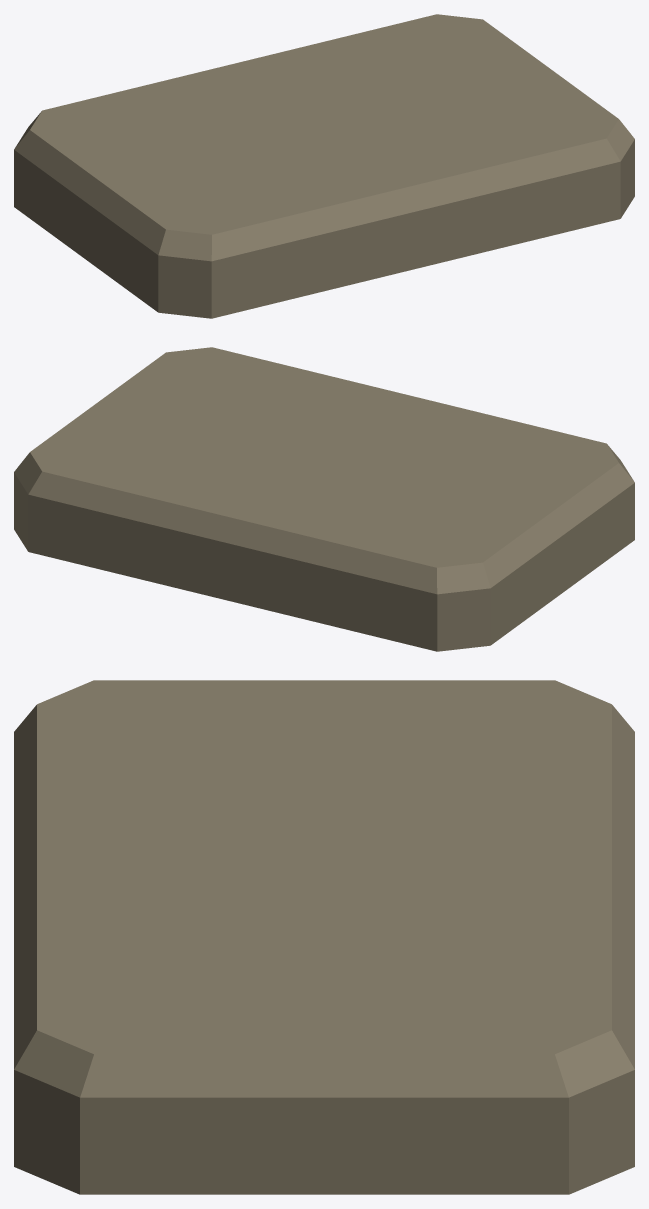
Rendered from doorstone.glb.
3 views of the same model, one above another, from view 1: azimuth 30°, elevation 25°; view 2: azimuth 150°, elevation 25°; view 3: azimuth 270°, elevation 25° (orthographic). The views are drawn at different scales.
Parts seen in each view (by area): view 1: Doorstone; view 2: Doorstone; view 3: Doorstone.
Part boxes in pixels (x1,y1,x2,y2): Doorstone: (14,14,634,318); Doorstone: (14,347,634,651); Doorstone: (14,680,634,1194).
Size of the model in its own units: 0.93 by 0.144 by 0.62.
